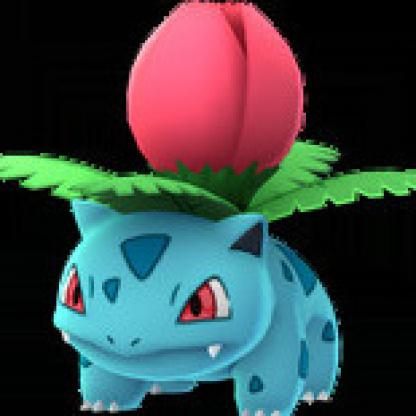Ivysaur: (1, 1, 415, 415)
